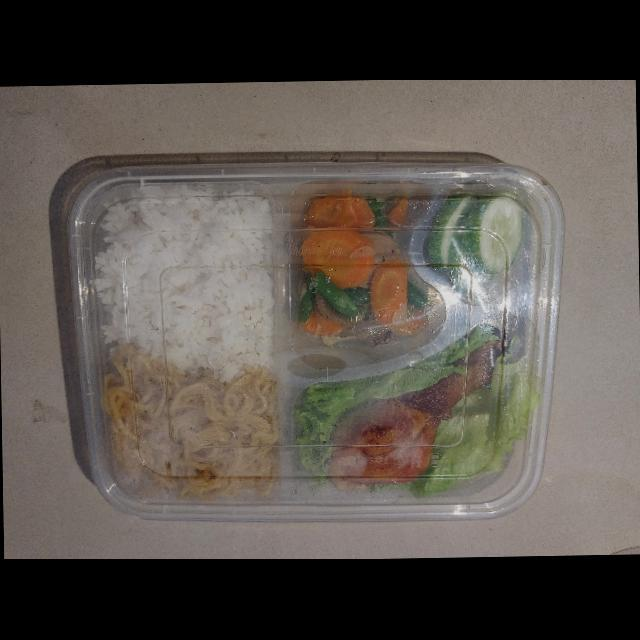bento: (64, 170, 562, 516)
